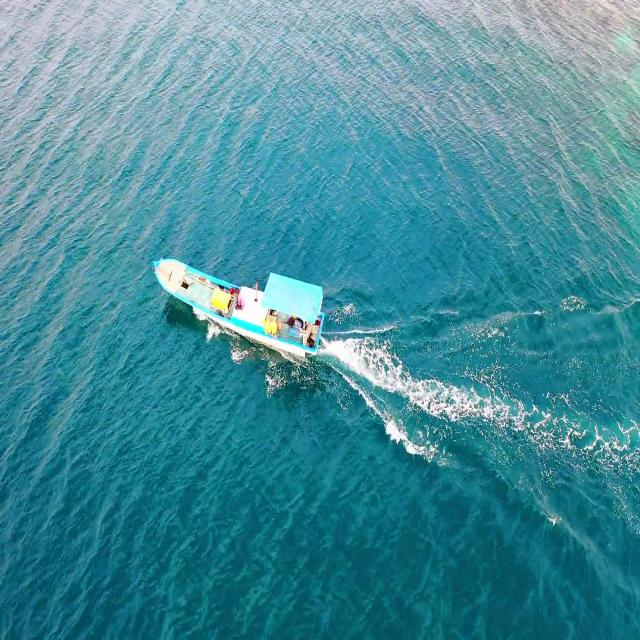ship: (147, 247, 330, 369)
